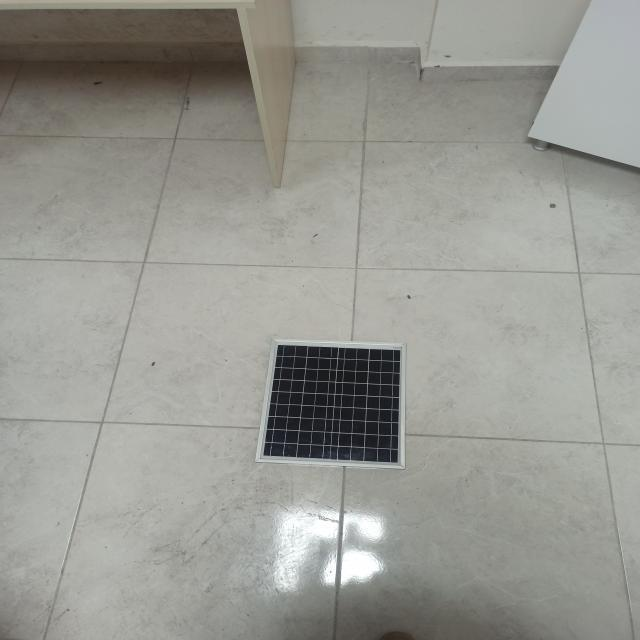Normal Solar Panel: (258, 342, 405, 469)
